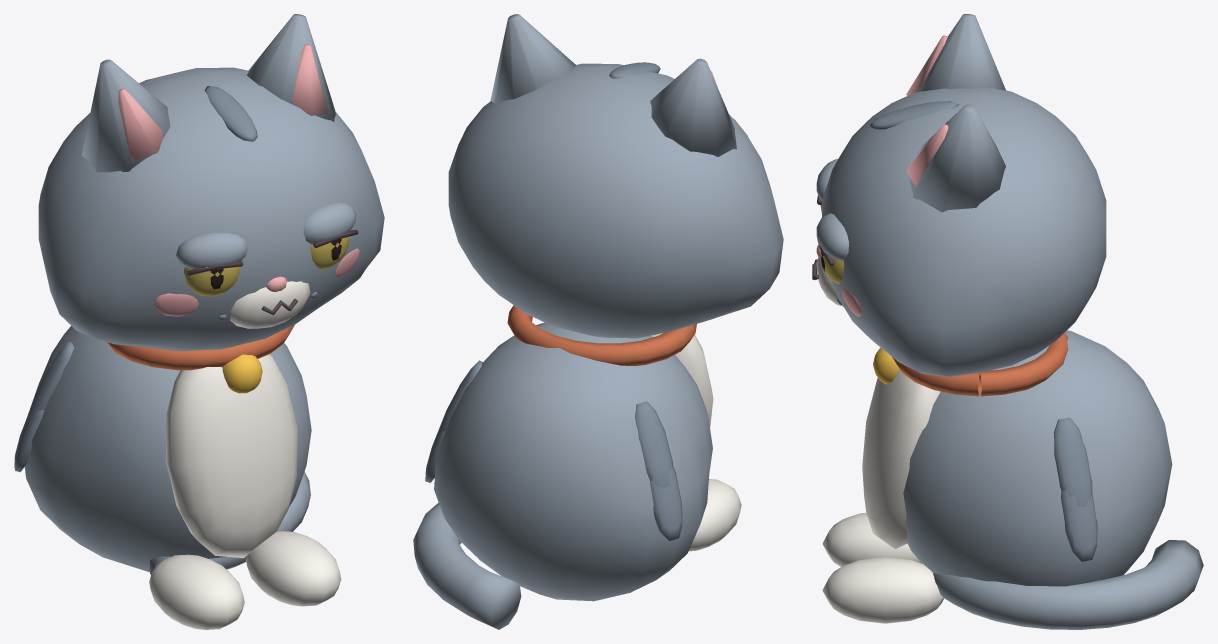
File: cat.glb
3 renders of one model, left to right at view 1: azimuth 30°, elevation 25°; view 2: azimuth 150°, elevation 25°; view 3: azimuth 270°, elevation 25°, orthographic. The views are drawn at different scales.
Visible parts, largest first — view 1: head, body, tail; view 2: head, body, tail; view 3: head, body, tail.
Boxes of the visible parts, x1,y1,x2,y2 form: head: (38, 14, 384, 351); body: (14, 324, 341, 629); tail: (149, 471, 310, 574); head: (448, 14, 783, 338); body: (425, 305, 741, 601); tail: (413, 503, 521, 629); head: (812, 14, 1106, 376); body: (822, 330, 1172, 623); tail: (933, 540, 1203, 629).
Size of the model in its own units: 0.2323 by 0.3809 by 0.2483.
